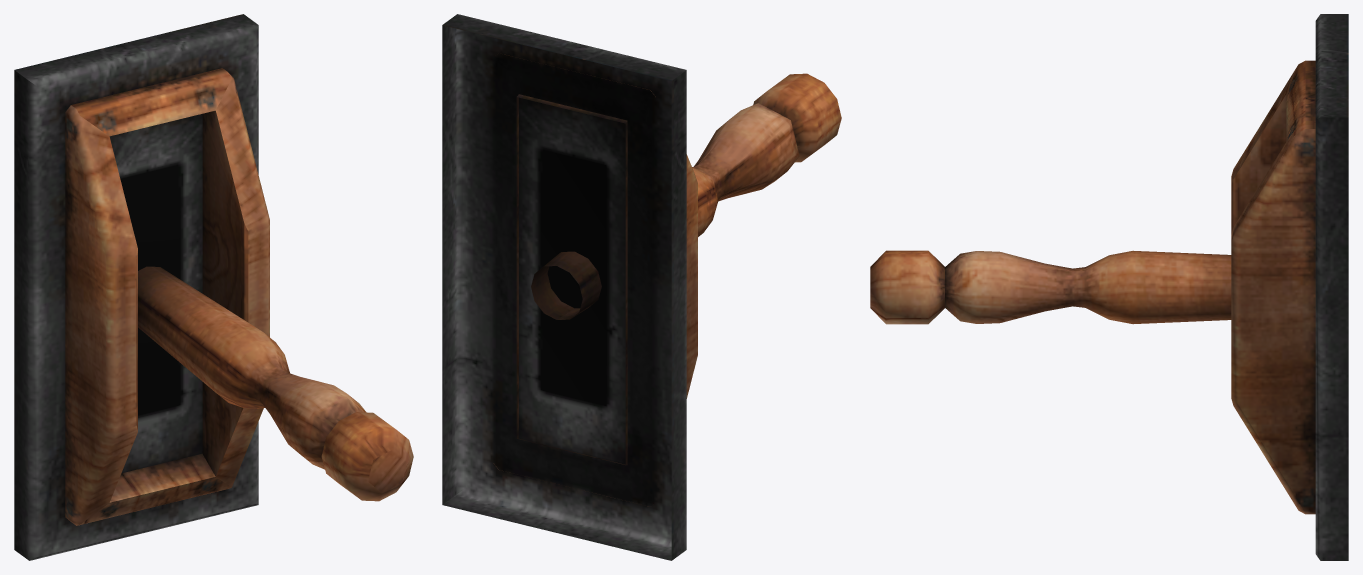
The model's file is lever_nice01.dae.
3 views of the same model, side by side, from view 1: azimuth 30°, elevation 25°; view 2: azimuth 150°, elevation 25°; view 3: azimuth 270°, elevation 25° (orthographic). The views are drawn at different scales.
Visible parts, largest first — view 1: lever_nice01_box_mesh, lever_nice01_handle_mesh; view 2: lever_nice01_box_mesh, lever_nice01_handle_mesh; view 3: lever_nice01_box_mesh, lever_nice01_handle_mesh.
Part boxes in pixels (<box>): lever_nice01_box_mesh: <box>14,14,269,560</box>; lever_nice01_handle_mesh: <box>138,266,413,501</box>; lever_nice01_box_mesh: <box>442,14,697,560</box>; lever_nice01_handle_mesh: <box>531,73,841,319</box>; lever_nice01_box_mesh: <box>1231,14,1348,560</box>; lever_nice01_handle_mesh: <box>870,250,1231,324</box>.
Size of the model in its own units: 0.3456 by 0.6908 by 0.6754.
